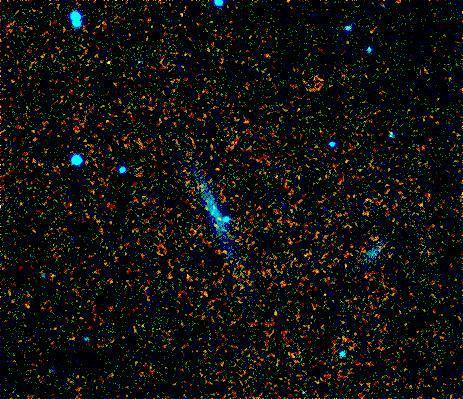star: (96, 46, 126, 76)
